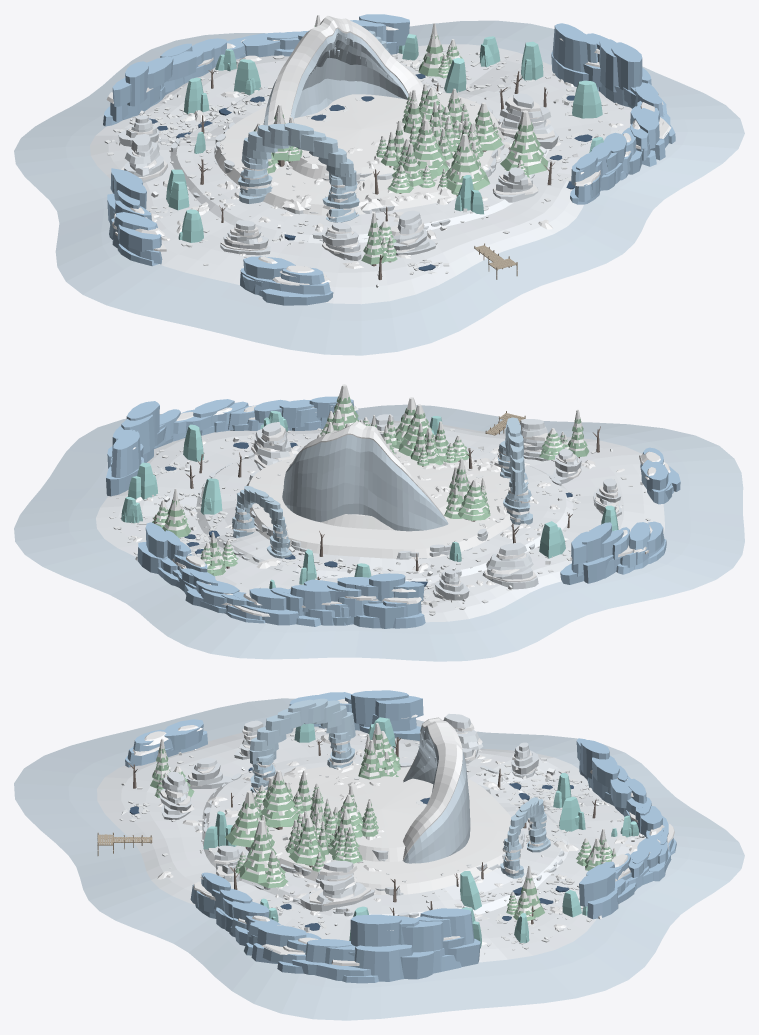
The model's file is island_ice.glb.
The picture shows the model from 3 angles, top to bottom: view 1: azimuth 30°, elevation 25°; view 2: azimuth 150°, elevation 25°; view 3: azimuth 270°, elevation 25°; orthographic projection. The views are drawn at different scales.
Visible parts, largest first — view 1: Frostmaw_Base, Frostmaw_Walls, Frostmaw_Pines, Frostmaw_Terraces, Frostmaw_SnowCaps, Frostmaw_Crystals, Frostmaw_PineSnow, Frostmaw_Arch, Frostmaw_Berg, Frostmaw_ShardLitter, Frostmaw_SnowMounds, Frostmaw_IceHoles (+1 smaller); view 2: Frostmaw_Base, Frostmaw_Walls, Frostmaw_Berg, Frostmaw_Terraces, Frostmaw_Pines, Frostmaw_SnowCaps, Frostmaw_Crystals, Frostmaw_PineSnow, Frostmaw_Arch, Frostmaw_ShardLitter, Frostmaw_SnowMounds, Frostmaw_DeadTrees (+1 smaller); view 3: Frostmaw_Base, Frostmaw_Walls, Frostmaw_Pines, Frostmaw_Terraces, Frostmaw_SnowCaps, Frostmaw_PineSnow, Frostmaw_Arch, Frostmaw_Crystals, Frostmaw_Berg, Frostmaw_ShardLitter, Frostmaw_SnowMounds, Frostmaw_DeadTrees (+1 smaller).
Boxes of the visible parts, x1,y1,x2,y2 form: Frostmaw_Base: [14, 20, 744, 355]; Frostmaw_Walls: [103, 14, 675, 305]; Frostmaw_Pines: [254, 25, 548, 264]; Frostmaw_Terraces: [118, 86, 558, 260]; Frostmaw_SnowCaps: [106, 15, 671, 285]; Frostmaw_Crystals: [166, 34, 603, 242]; Frostmaw_PineSnow: [255, 15, 541, 258]; Frostmaw_Arch: [238, 30, 388, 222]; Frostmaw_Berg: [263, 28, 408, 125]; Frostmaw_ShardLitter: [104, 50, 623, 287]; Frostmaw_SnowMounds: [151, 53, 623, 277]; Frostmaw_IceHoles: [149, 73, 592, 271]; Frostmaw_Base: [14, 404, 744, 661]; Frostmaw_Walls: [106, 396, 680, 628]; Frostmaw_Berg: [282, 434, 448, 531]; Frostmaw_Terraces: [198, 414, 621, 600]; Frostmaw_Pines: [152, 396, 589, 576]; Frostmaw_SnowCaps: [133, 405, 670, 616]; Frostmaw_Crystals: [121, 411, 618, 588]; Frostmaw_PineSnow: [156, 384, 585, 569]; Frostmaw_Arch: [232, 417, 532, 558]; Frostmaw_ShardLitter: [109, 428, 650, 615]; Frostmaw_SnowMounds: [130, 440, 624, 605]; Frostmaw_DeadTrees: [153, 426, 600, 579]; Frostmaw_Base: [14, 698, 744, 1020]; Frostmaw_Walls: [125, 690, 676, 983]; Frostmaw_Pines: [150, 733, 615, 920]; Frostmaw_Terraces: [159, 713, 567, 918]; Frostmaw_SnowCaps: [133, 699, 674, 965]; Frostmaw_PineSnow: [153, 723, 616, 916]; Frostmaw_Arch: [249, 698, 550, 878]; Frostmaw_Crystals: [203, 717, 639, 947]; Frostmaw_Berg: [403, 725, 470, 863]; Frostmaw_ShardLitter: [119, 728, 644, 954]; Frostmaw_SnowMounds: [157, 729, 638, 945]; Frostmaw_DeadTrees: [128, 737, 596, 924].
Size of the model in its own units: 638 by 123 by 612.
